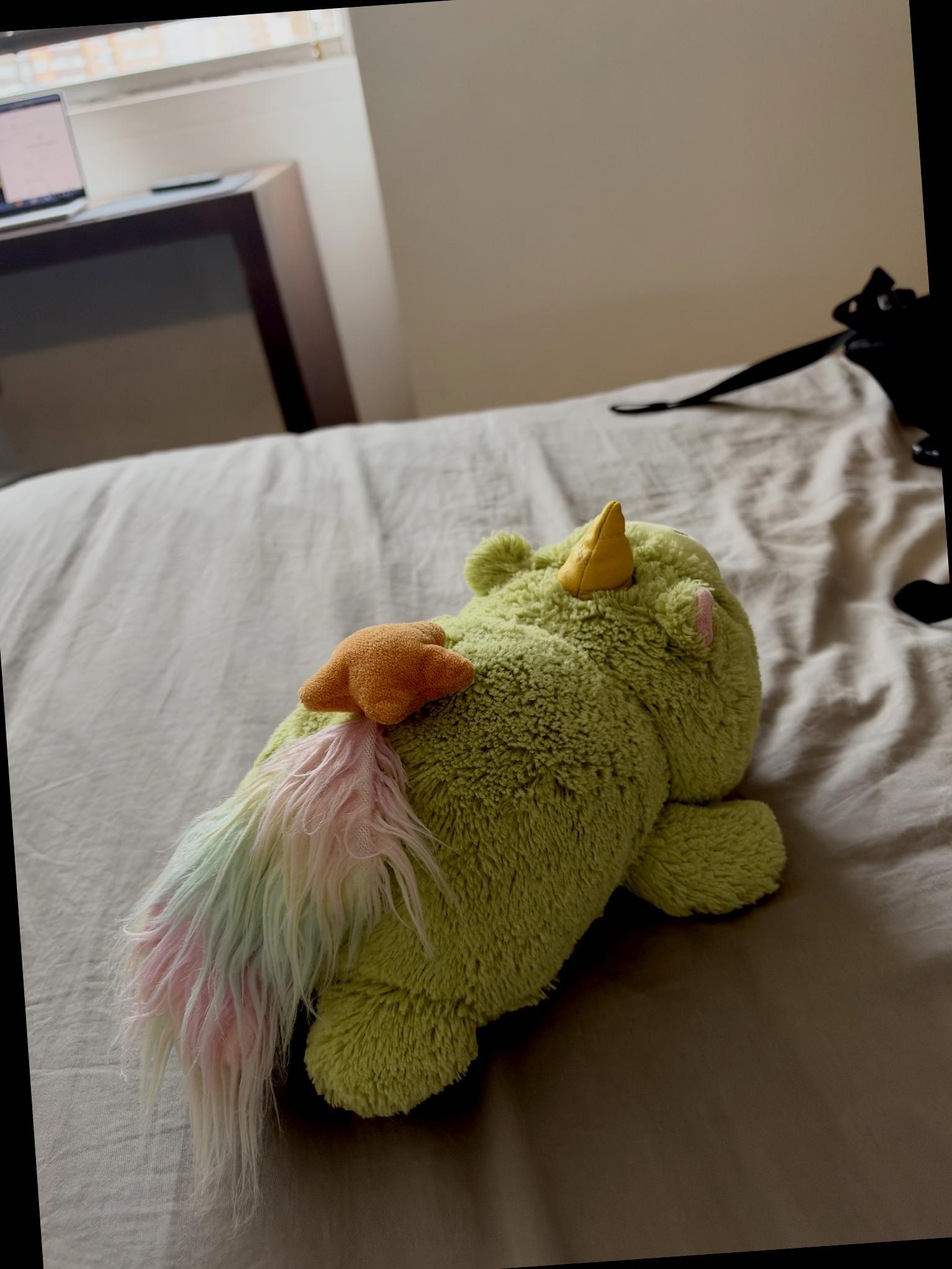peluche_martin: (87, 486, 801, 1144)
